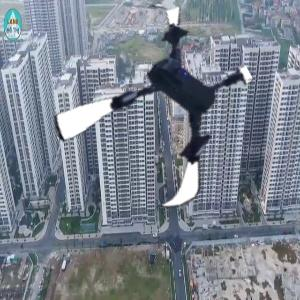drone: (57, 11, 257, 211)
